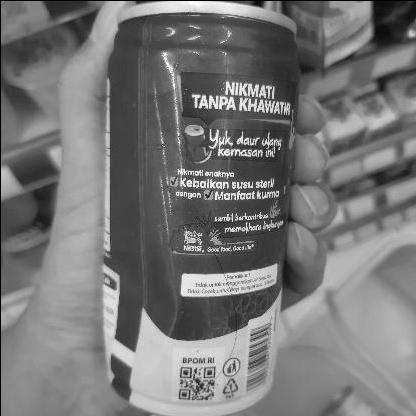alumunium_can: (85, 0, 293, 416)
